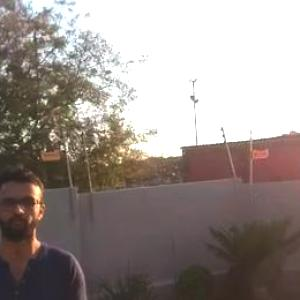follow: (1, 160, 98, 299)
